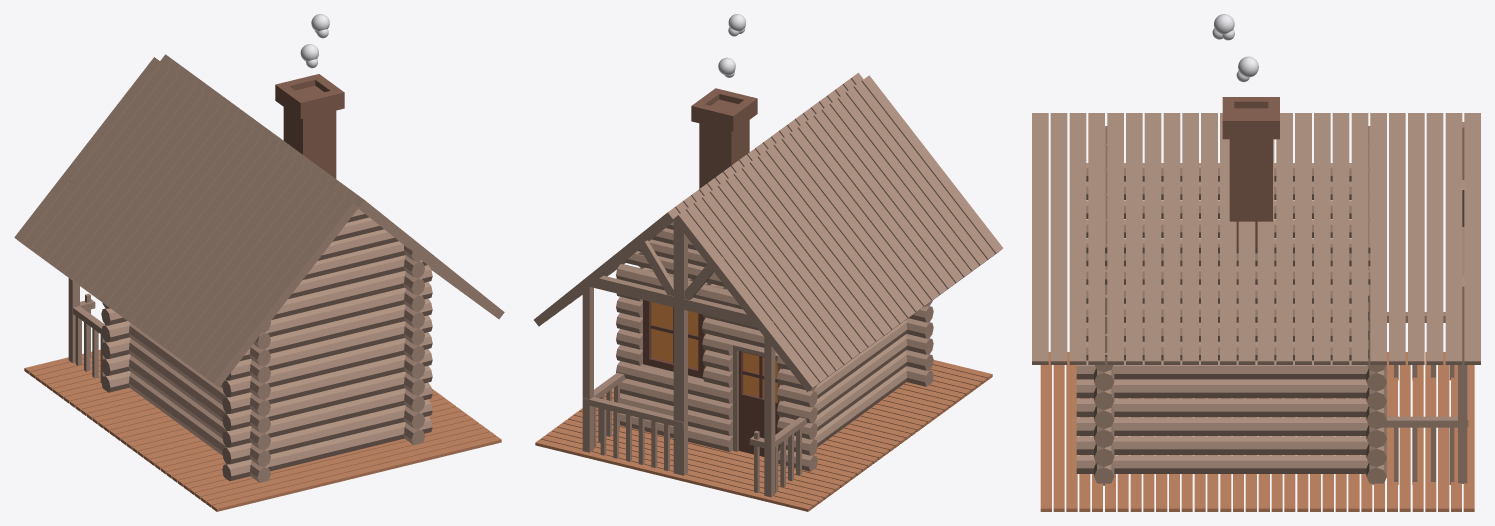
File: Log_cabins1.fbx
3 views of the same model, side by side, from view 1: azimuth 30°, elevation 25°; view 2: azimuth 150°, elevation 25°; view 3: azimuth 270°, elevation 25° (orthographic). The views are drawn at different scales.
Visible parts, largest first — view 1: _polySurface76, _polySurface31, _pCube100, _pCube112, _polySurface5, _pCube72; view 2: _polySurface76, _polySurface31, _pCube100, _pCube112, _polySurface5, _pCube74, _polySurface39, _pCube71, _pCube72, _polySurface115, _polySurface117, _pCube96 (+4 smaller); view 3: _polySurface5, _polySurface31, _pCube100, _pCube112, _polySurface76, _pCube71, _pCube101.
Part boxes in pixels (<box>): _polySurface76: <box>14,57,358,387</box>; _polySurface31: <box>101,208,432,482</box>; _pCube100: <box>24,349,501,511</box>; _pCube112: <box>275,74,344,178</box>; _polySurface5: <box>160,54,504,319</box>; _pCube72: <box>68,179,79,362</box>; _polySurface76: <box>673,75,1003,391</box>; _polySurface31: <box>616,222,933,471</box>; _pCube100: <box>535,360,992,511</box>; _pCube112: <box>691,88,757,188</box>; _polySurface5: <box>534,73,863,326</box>; _pCube74: <box>673,220,687,475</box>; _polySurface39: <box>589,275,756,327</box>; _pCube71: <box>582,286,593,452</box>; _pCube72: <box>764,321,775,497</box>; _polySurface115: <box>738,351,778,456</box>; _polySurface117: <box>651,302,698,368</box>; _pCube96: <box>643,300,706,378</box>; _polySurface5: <box>1032,119,1480,364</box>; _polySurface31: <box>1076,126,1386,485</box>; _pCube100: <box>1040,352,1474,511</box>; _pCube112: <box>1222,97,1279,247</box>; _polySurface76: <box>1032,113,1480,119</box>; _pCube71: <box>1458,276,1467,483</box>; _pCube101: <box>1382,416,1458,427</box>.
Size of the model in its own units: 55.95 by 71.79 by 66.07.
